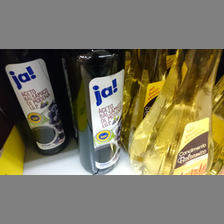vinegar: (145, 49, 220, 176), (2, 52, 70, 154), (70, 53, 123, 175), (126, 49, 169, 158)
